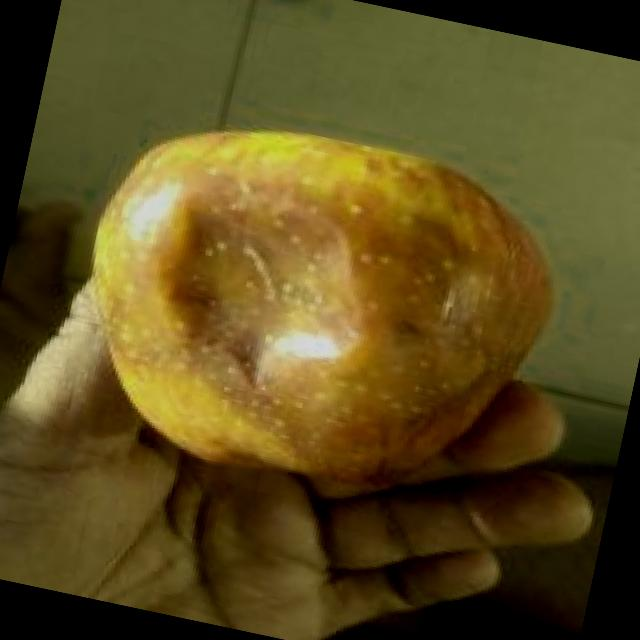Rotten_Apple: (50, 89, 591, 532)
